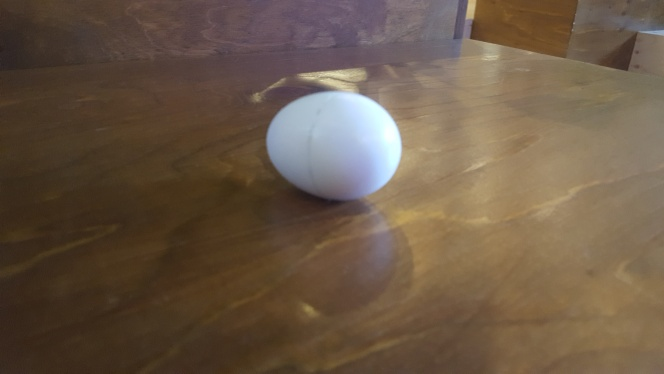egg: (265, 91, 402, 202)
